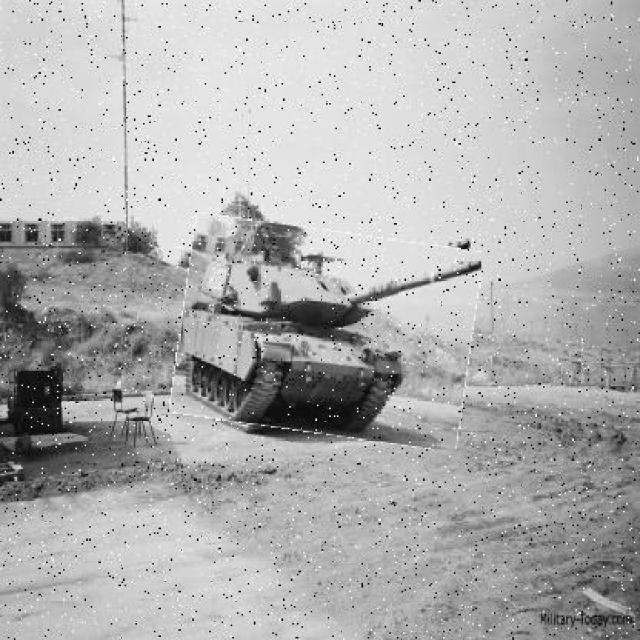Tank: (176, 223, 478, 443)
